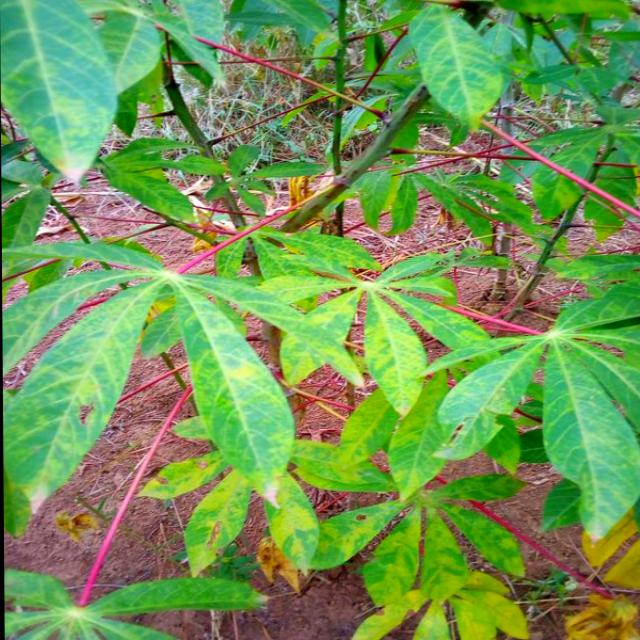Mosaico: (6, 224, 311, 433), (120, 376, 356, 559), (458, 287, 640, 493), (237, 256, 487, 385), (311, 466, 531, 612), (342, 358, 546, 508), (388, 0, 528, 159)
